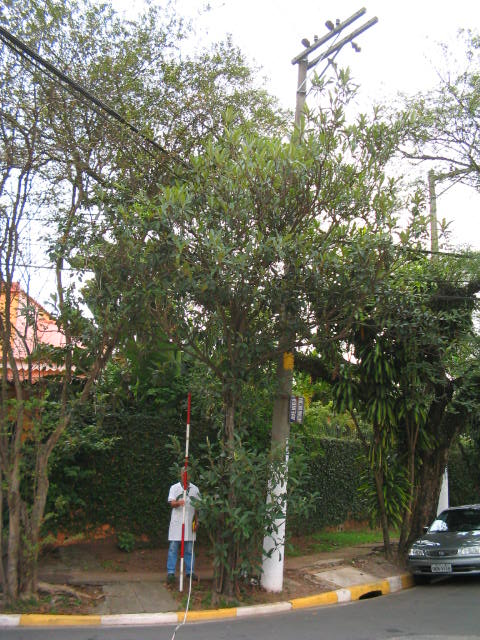crown: (72, 108, 388, 398), (4, 6, 220, 350)
stem: (208, 398, 270, 595), (395, 455, 459, 547), (5, 501, 59, 597)
stick: (172, 392, 196, 591)
tree: (68, 107, 389, 596), (1, 3, 223, 600), (322, 253, 477, 548)
